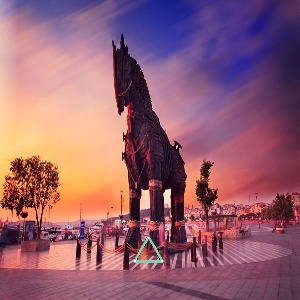triangle: (130, 234, 165, 265)
